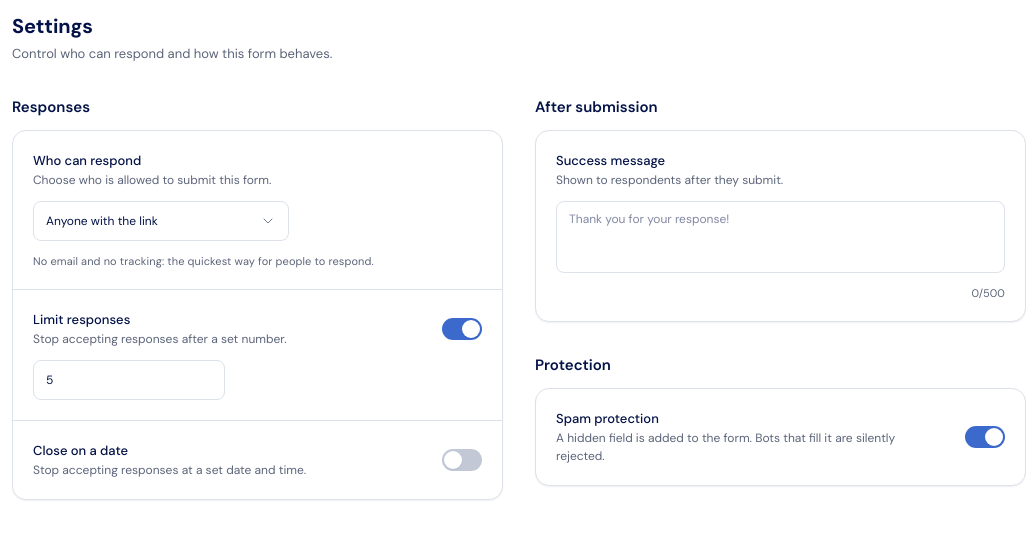
Test case: SettingsPanel: response limit › rejects -3 with an inline error and does not save
The width and height of the screenshot is (1036, 544).
Replace the text in the number field with "-3" at (129, 380), box [33,360,225,400]
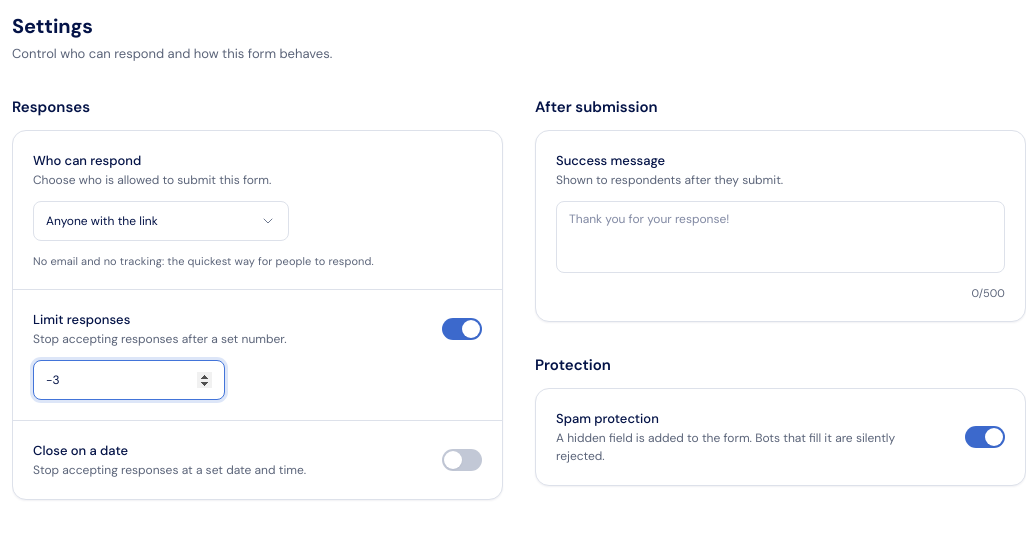
Press Tab
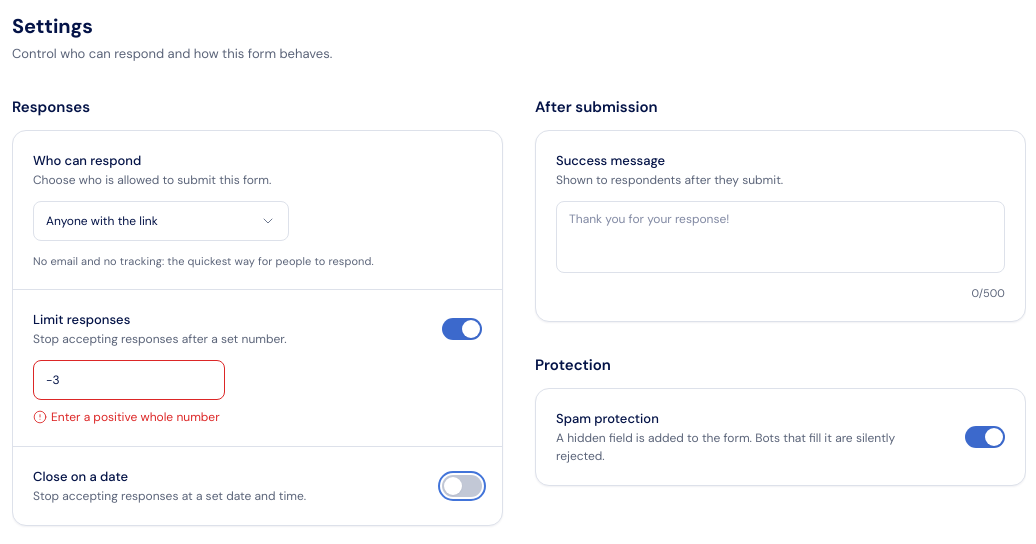
Result: the text "Enter a positive whole number" is shown at [33,408,225,426]
